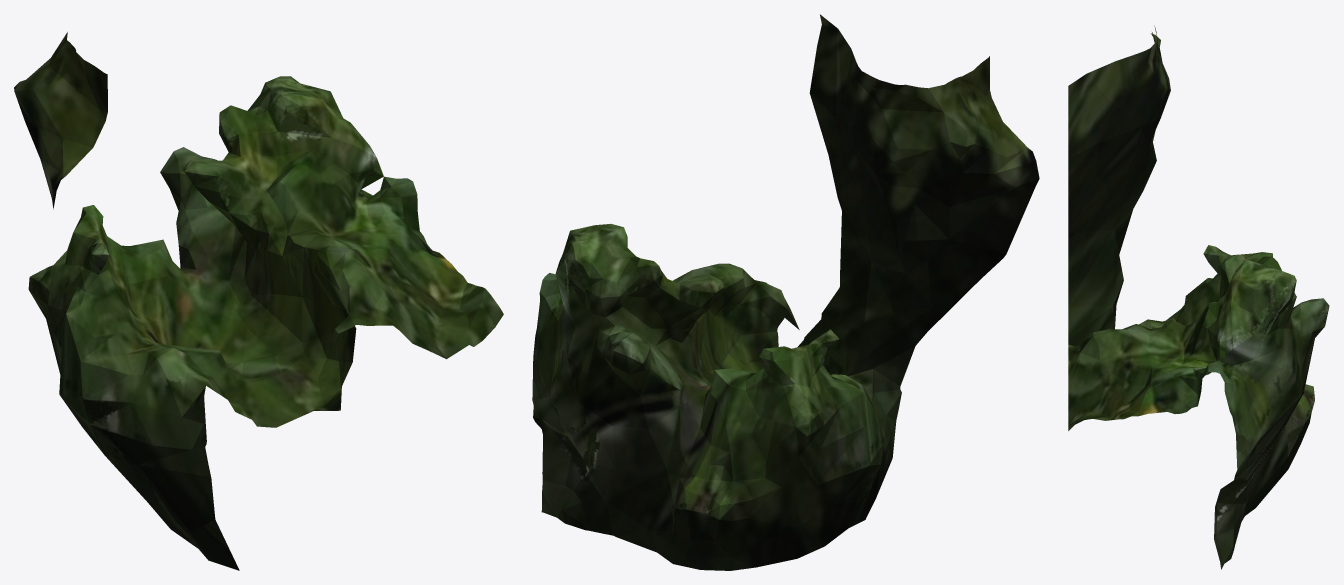
The picture shows the model from 3 angles, left to right: view 1: azimuth 30°, elevation 25°; view 2: azimuth 150°, elevation 25°; view 3: azimuth 270°, elevation 25°; orthographic projection. The views are drawn at different scales.
Size of the model in its own units: 0.7471 by 0.8374 by 0.4868.
3 materials, 3 textured.
